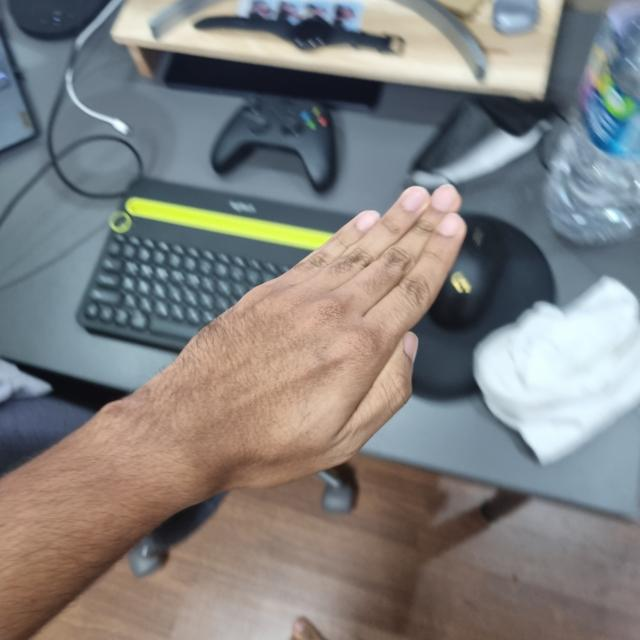Paper: (148, 181, 465, 488)
